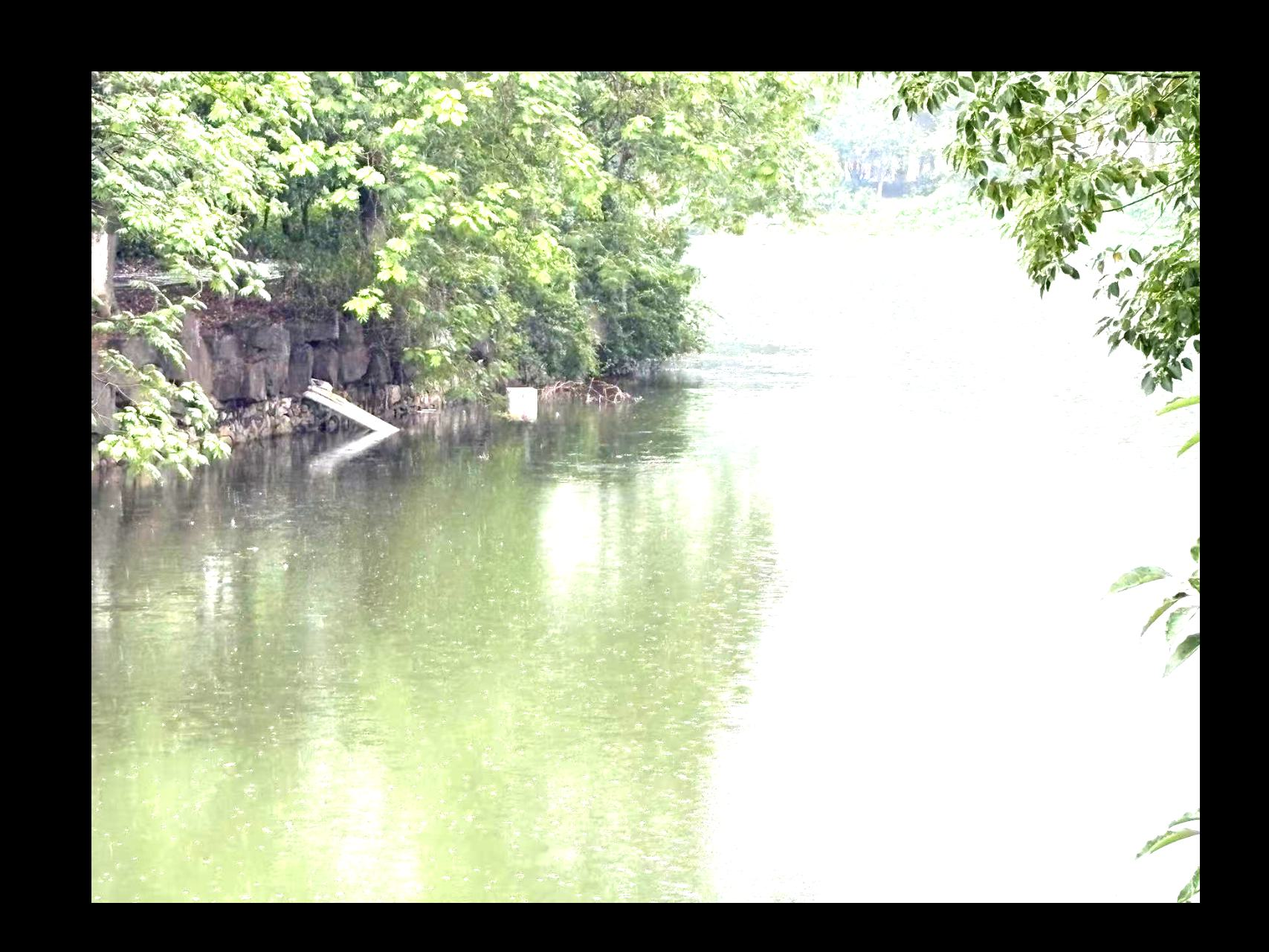Plastic wastes: (505, 383, 537, 413)
